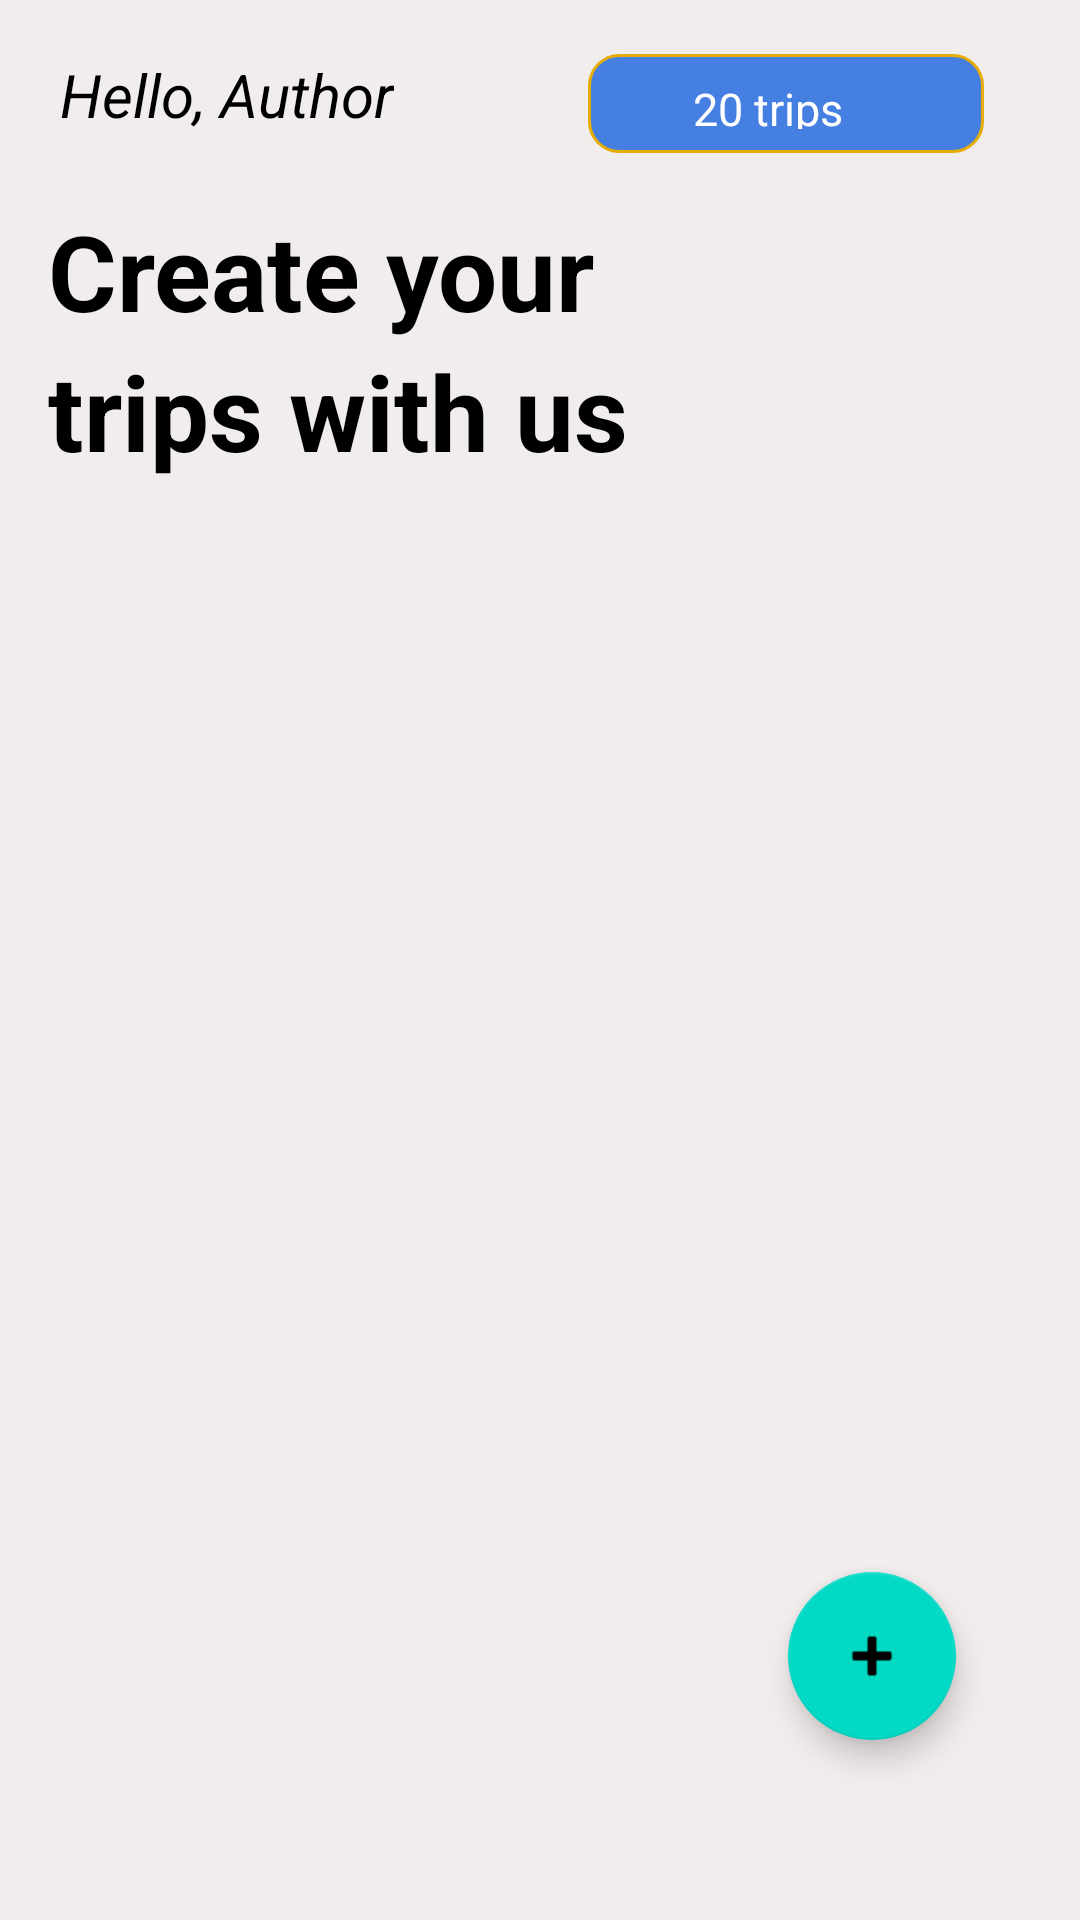

Screen size 1080*1920. Icon name, then its box in pixels as BBox(x1, y1, x2, y2):
add: BBox(788, 1572, 956, 1740)
